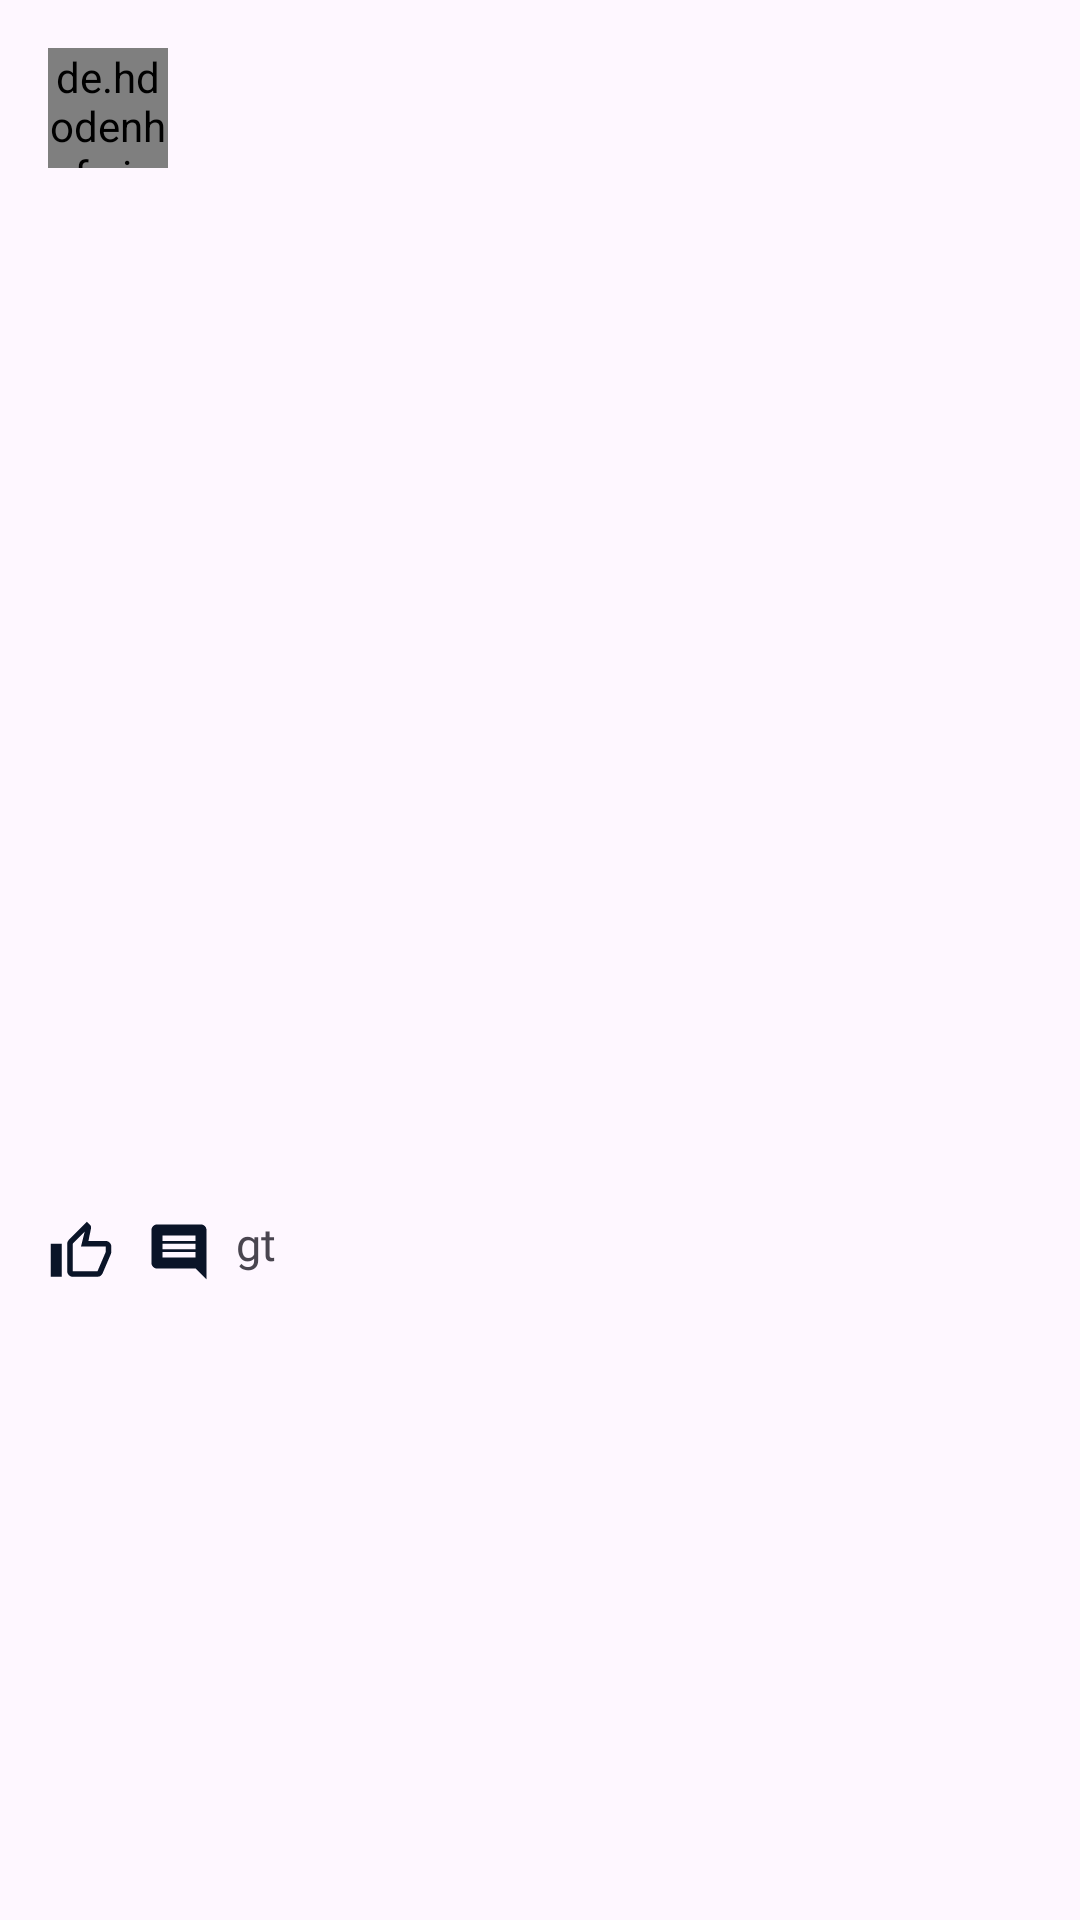

Icons on this 1080 x 1920 Android screen, each with its box as (x1, y1, x2, y2):
comment: (151, 1224, 207, 1279)
like: (50, 1222, 112, 1277)
